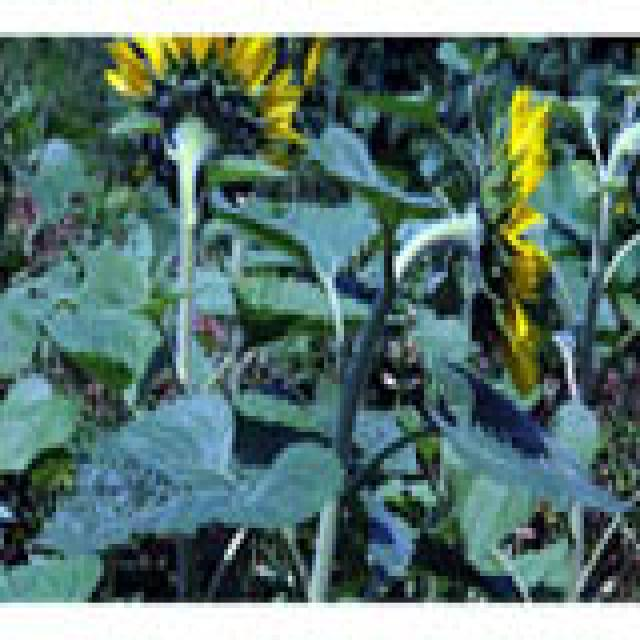sunflower: (89, 29, 324, 178), (468, 83, 562, 384)
